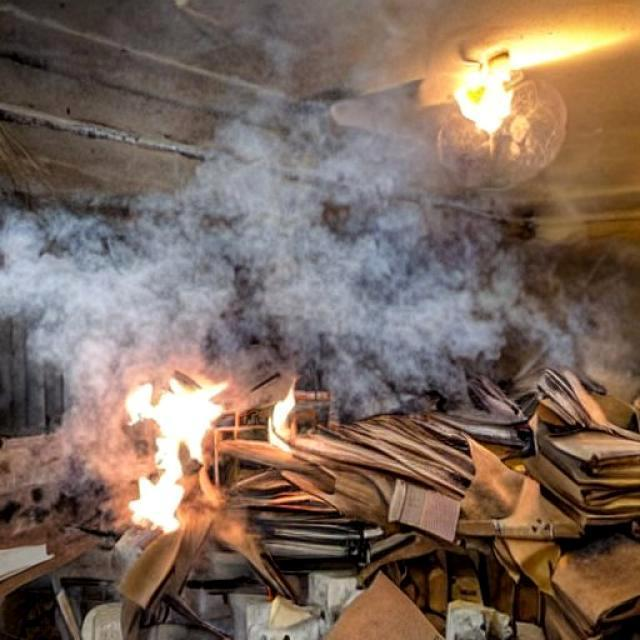Fire: (107, 369, 238, 534), (260, 381, 303, 454)
Smoke: (0, 118, 640, 386)
